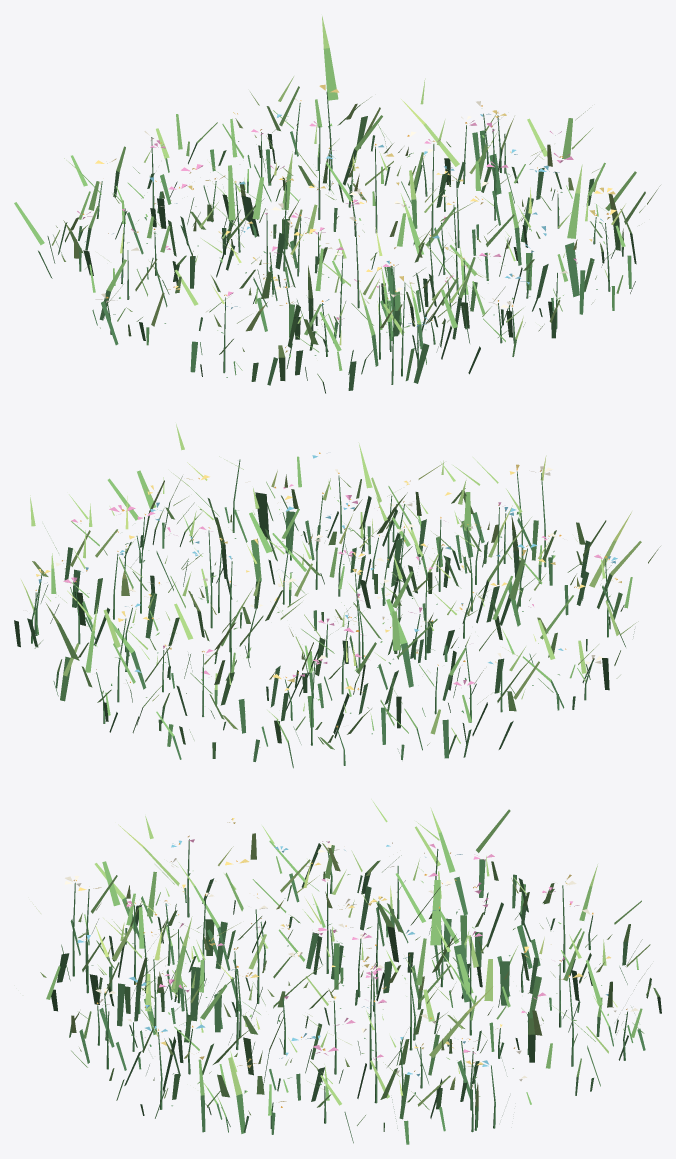
Rendered from Meadow_03_Mixed_LOD1.glb.
3 renders of one model, top to bottom at view 1: azimuth 30°, elevation 25°; view 2: azimuth 150°, elevation 25°; view 3: azimuth 270°, elevation 25°, orthographic. The views are drawn at different scales.
Parts seen in each view (by area): view 1: Meadow_03_Mixed; view 2: Meadow_03_Mixed; view 3: Meadow_03_Mixed.
Boxes of the visible parts, x1,y1,x2,y2 form: Meadow_03_Mixed: [14, 16, 660, 393]; Meadow_03_Mixed: [14, 424, 660, 768]; Meadow_03_Mixed: [33, 799, 661, 1144].
Size of the model in its own units: 3.34 by 0.7127 by 3.28.
